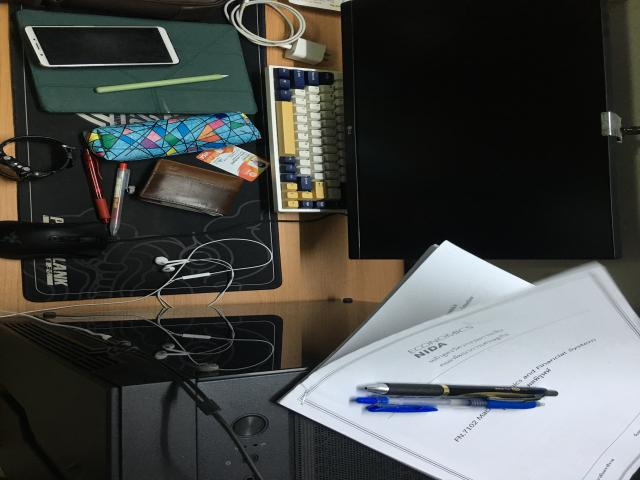Mobile phone: (25, 25, 180, 68)
Mouse: (0, 220, 110, 260)
Pen: (353, 383, 558, 412), (82, 149, 110, 223), (108, 162, 130, 236)
Wallet: (138, 158, 243, 216)
Watch: (0, 136, 75, 181)
paper: (280, 242, 640, 480), (288, 0, 348, 11)
wire: (225, 0, 325, 65), (153, 244, 273, 293)
